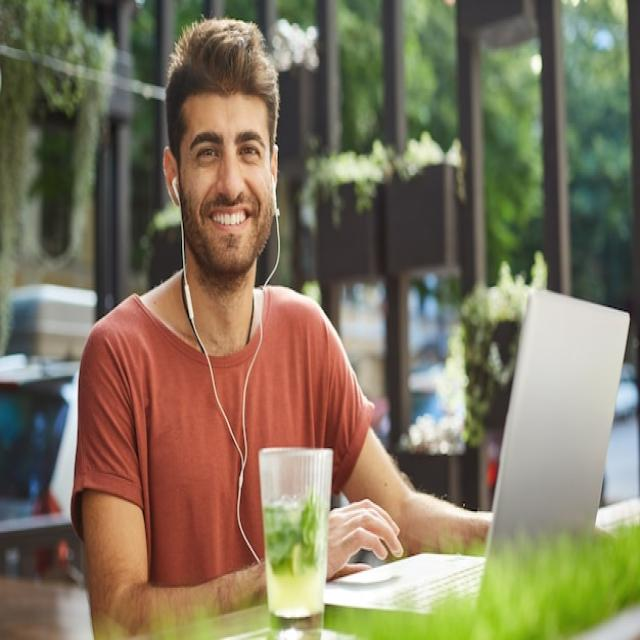Earphone: (170, 172, 282, 562)
